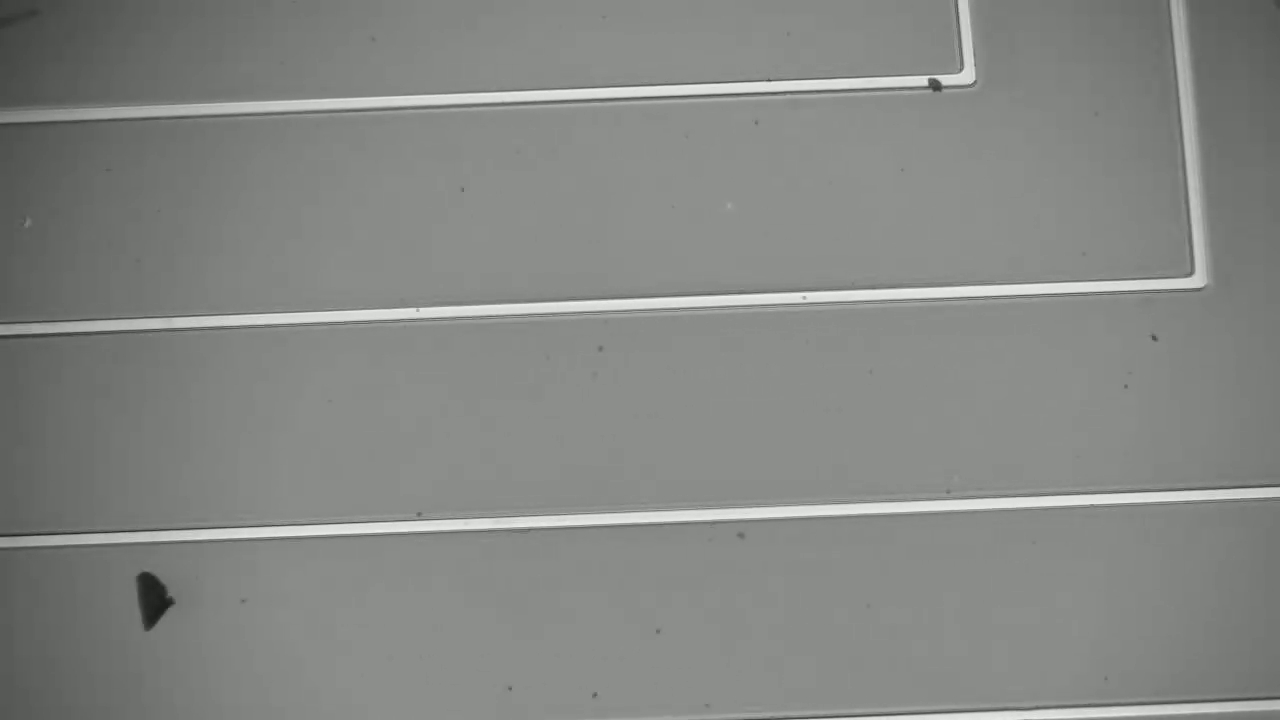stains_enbedded: (917, 68, 949, 97)
